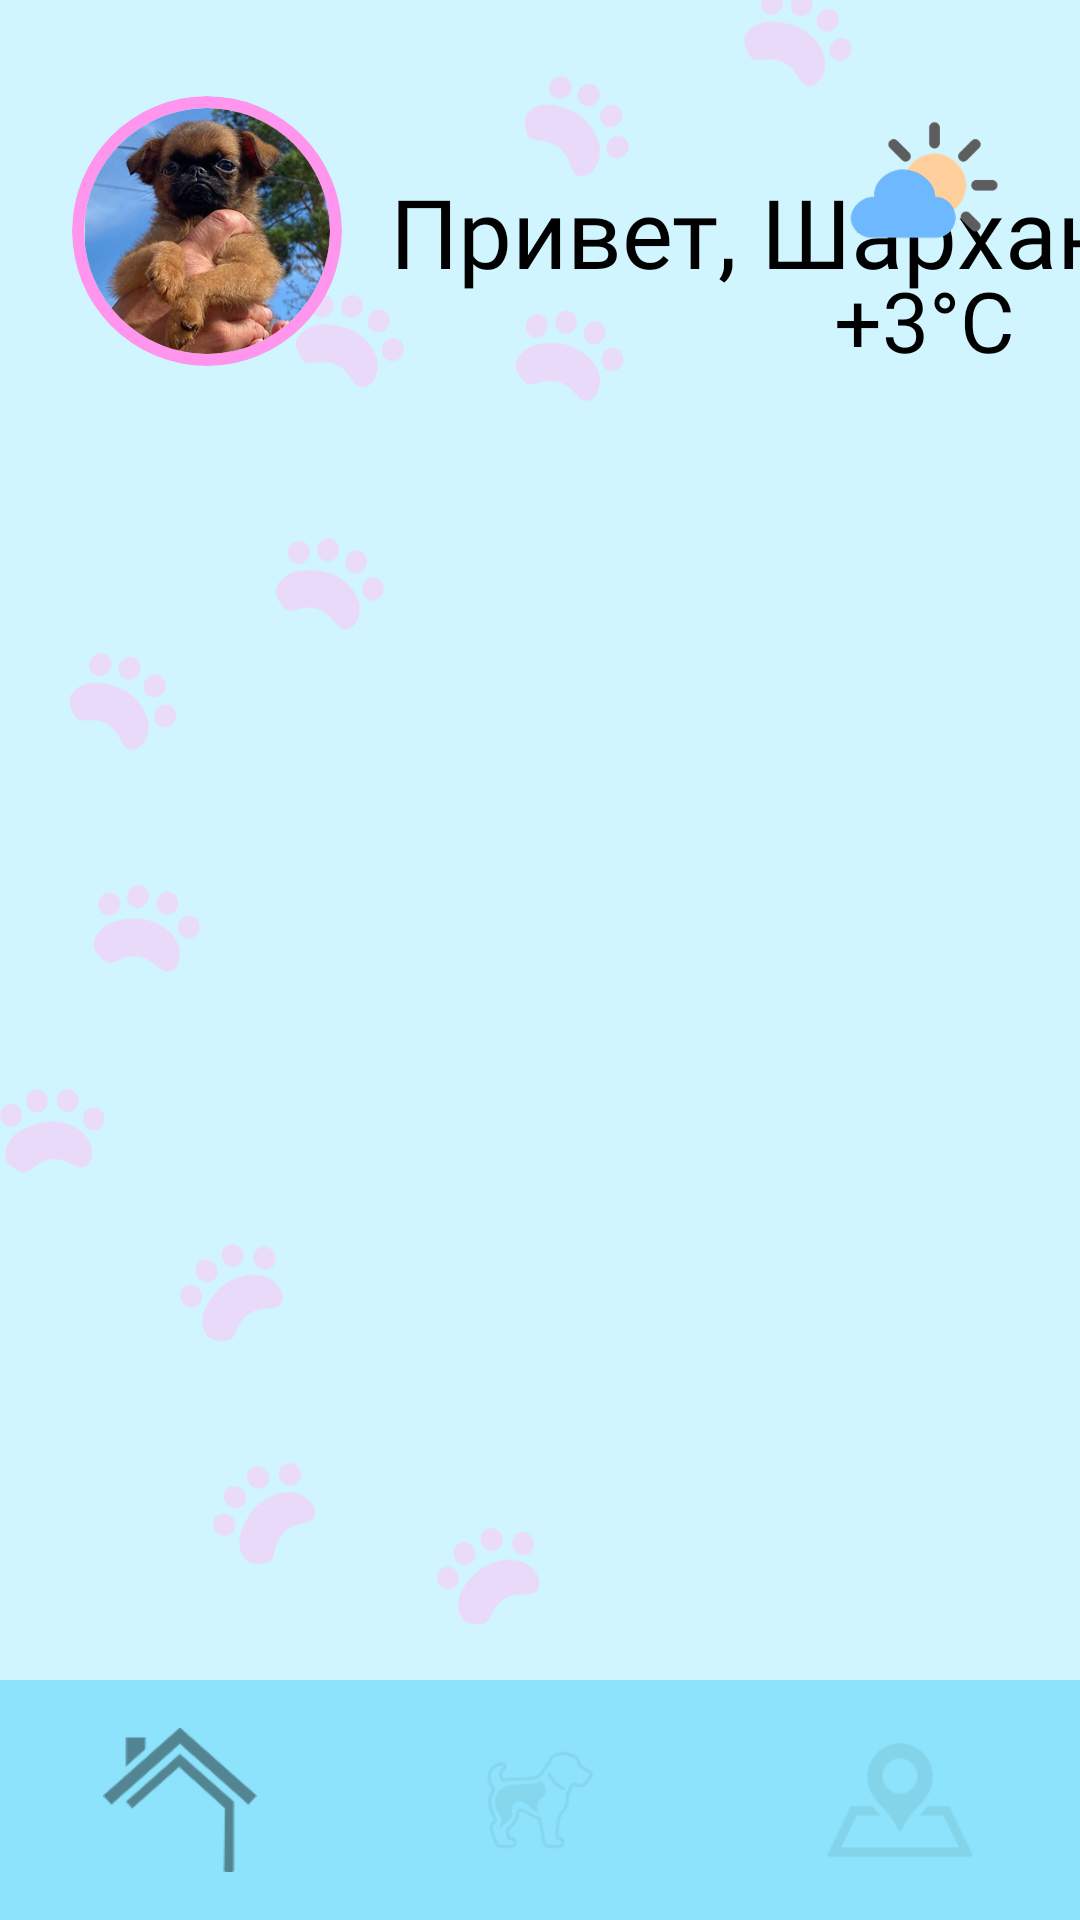

Point at icon controls on the screen. Image size 1080px×1920px, points as (x,y).
home: (180,1800)
